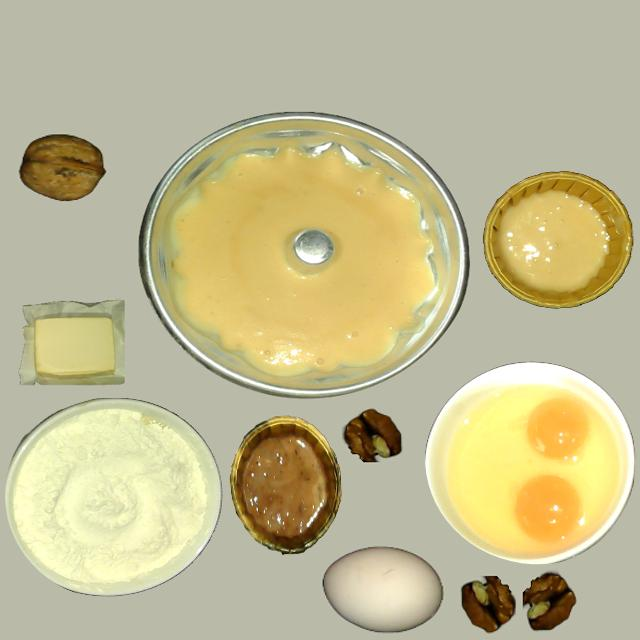Egg: (515, 475, 580, 541), (527, 399, 589, 460)
Flour: (4, 398, 218, 598)
Walnut: (18, 134, 104, 202)
